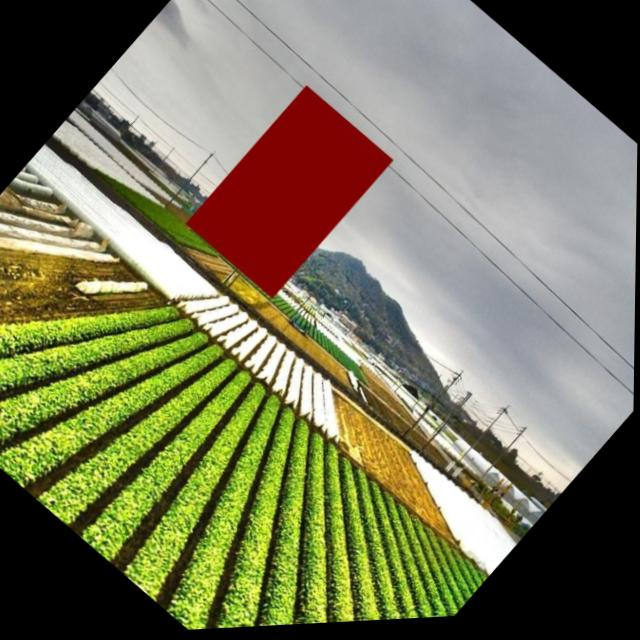RedSquare: (175, 70, 408, 315)
